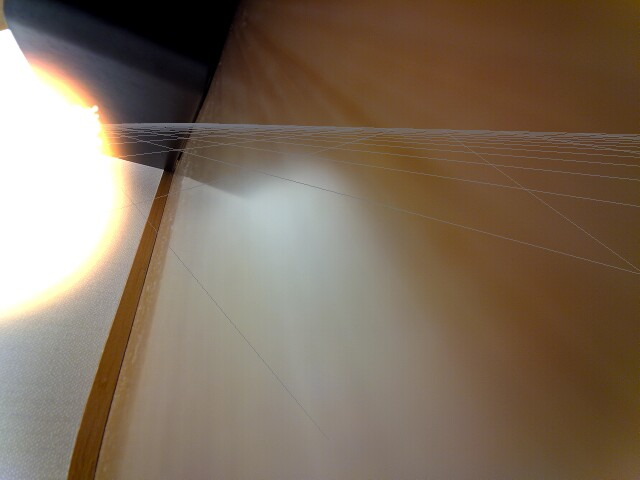firebig: (0, 27, 161, 360)
